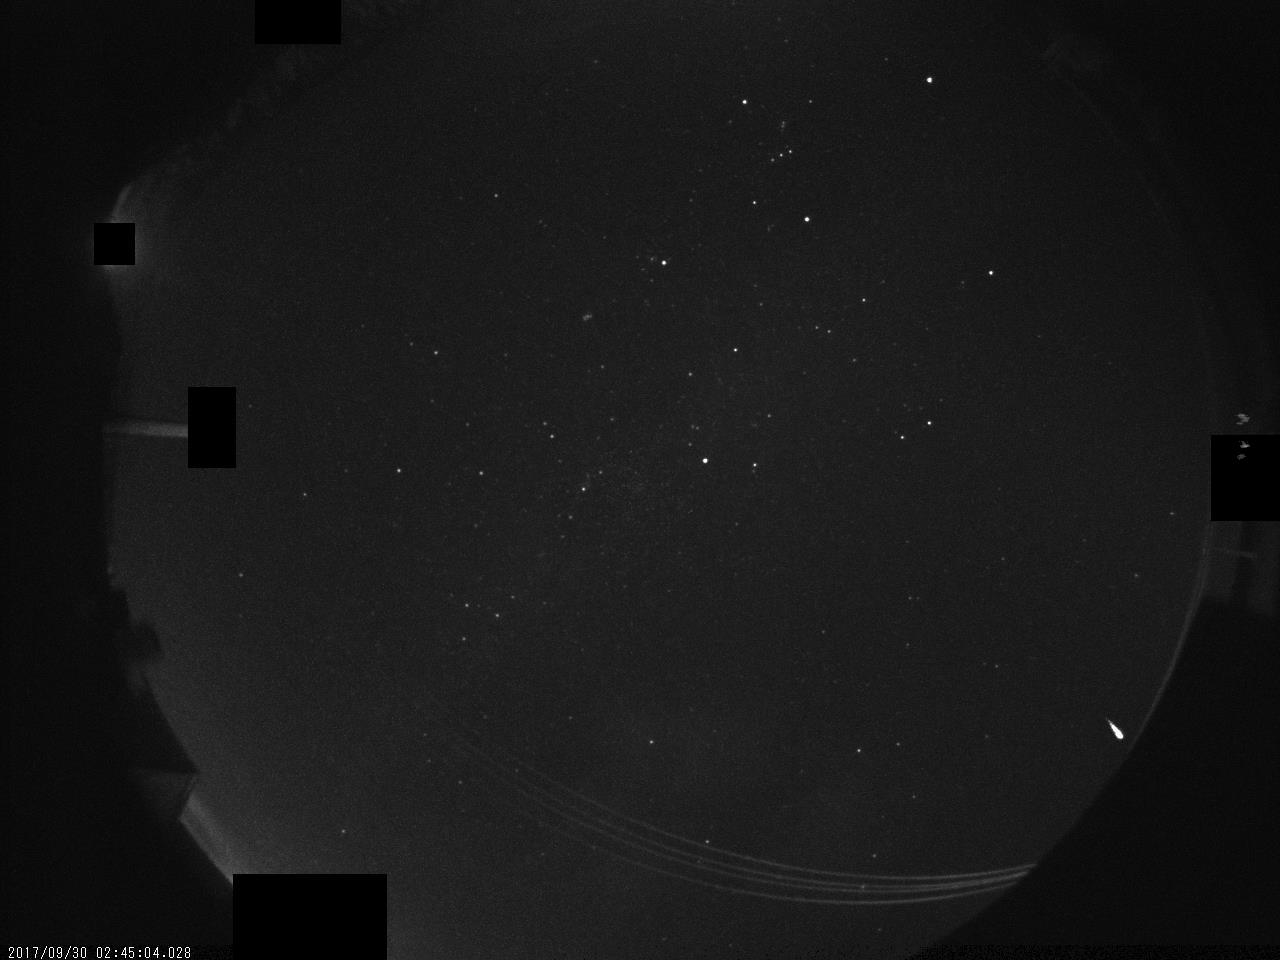TLE: (1222, 394, 1264, 478)
